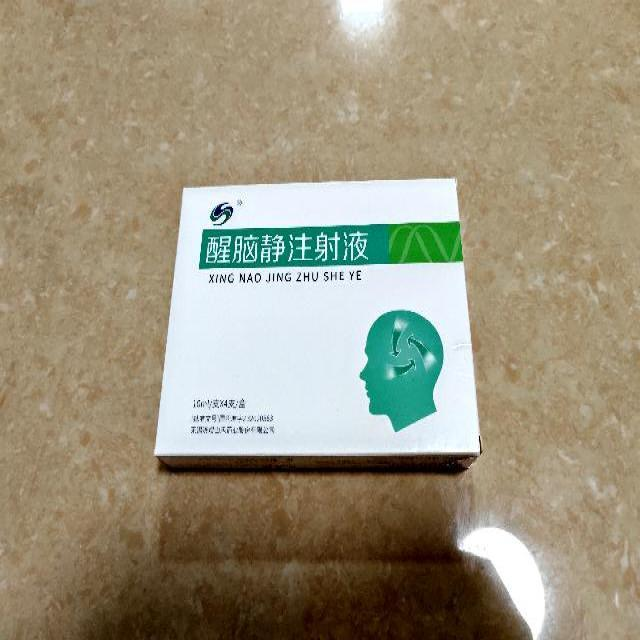box: (154, 175, 480, 473)
